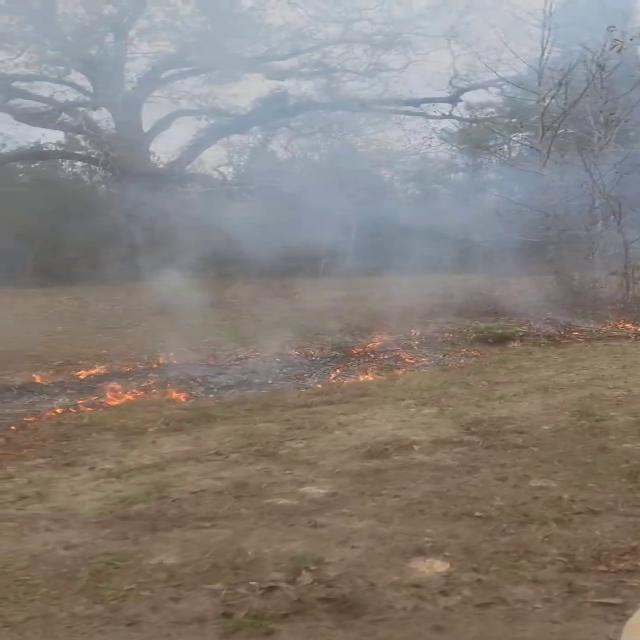Smoke: (12, 2, 640, 334)
